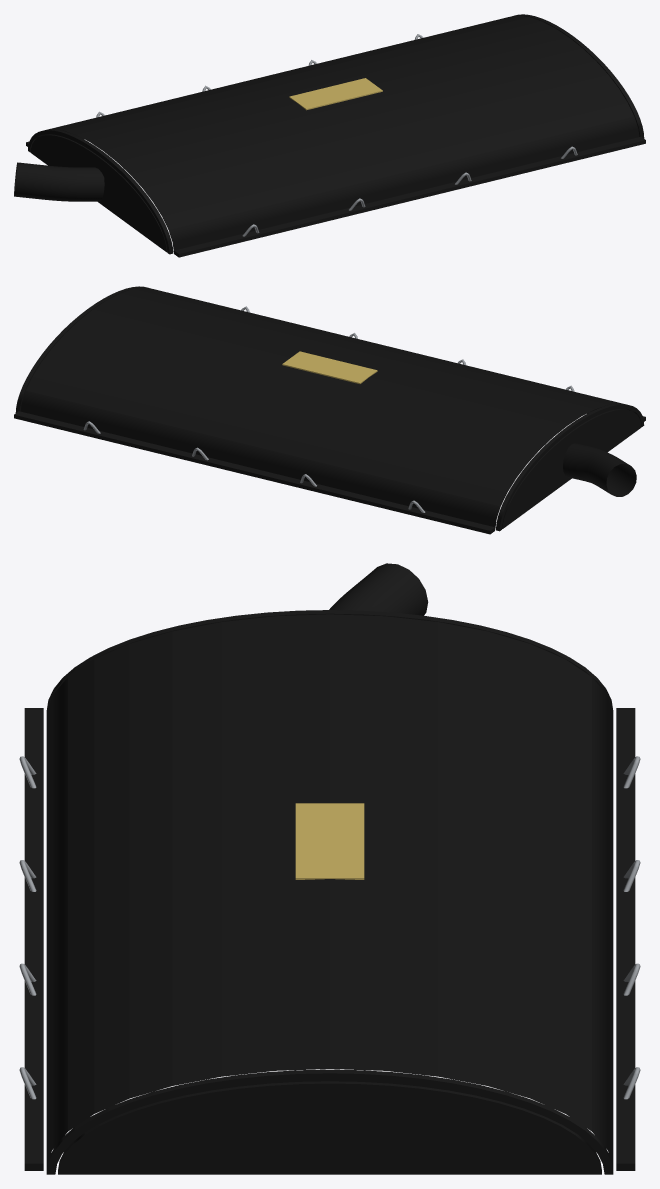
File: air-cleaner-lid.glb
The picture shows the model from 3 angles, top to bottom: view 1: azimuth 30°, elevation 25°; view 2: azimuth 150°, elevation 25°; view 3: azimuth 270°, elevation 25°; orthographic projection. The views are drawn at different scales.
Visible parts, largest first — view 1: air-cleaner-lid:blackPlastic, air-cleaner-lid:yellowZinc, air-cleaner-lid:steel; view 2: air-cleaner-lid:blackPlastic, air-cleaner-lid:yellowZinc, air-cleaner-lid:steel; view 3: air-cleaner-lid:blackPlastic, air-cleaner-lid:yellowZinc, air-cleaner-lid:steel.
Part boxes in pixels (<box>): air-cleaner-lid:blackPlastic: <box>14,14,645,257</box>; air-cleaner-lid:yellowZinc: <box>289,78,382,110</box>; air-cleaner-lid:steel: <box>96,34,577,236</box>; air-cleaner-lid:blackPlastic: <box>14,286,645,534</box>; air-cleaner-lid:yellowZinc: <box>282,351,377,383</box>; air-cleaner-lid:steel: <box>83,306,574,512</box>; air-cleaner-lid:blackPlastic: <box>24,563,635,1174</box>; air-cleaner-lid:yellowZinc: <box>295,803,364,879</box>; air-cleaner-lid:steel: <box>19,756,640,1099</box>.
Size of the model in its own units: 516 by 46.08 by 253.
